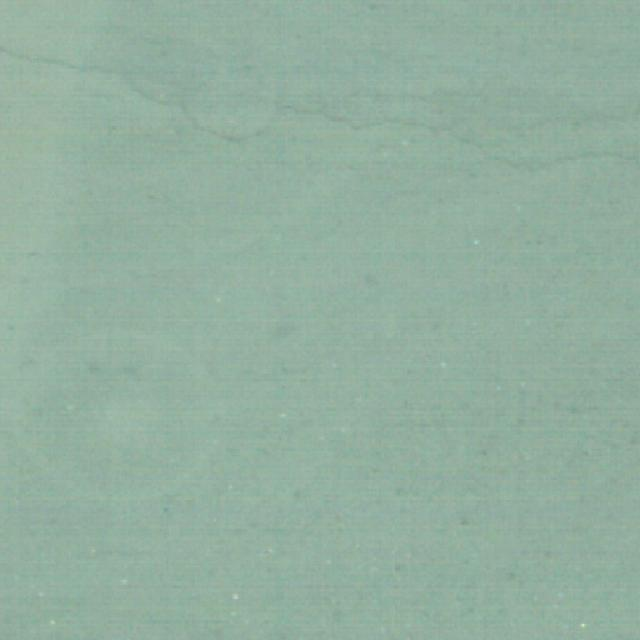Transverse: (0, 48, 640, 176)
